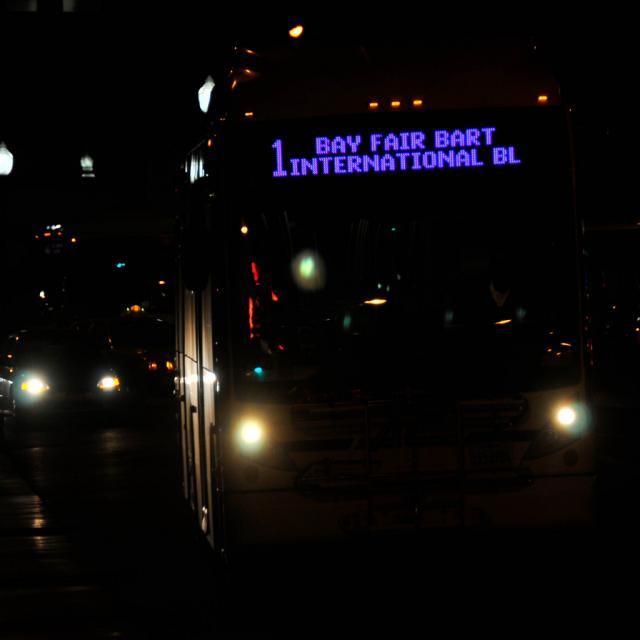Bus: (171, 66, 640, 599)
car: (7, 298, 121, 446)
